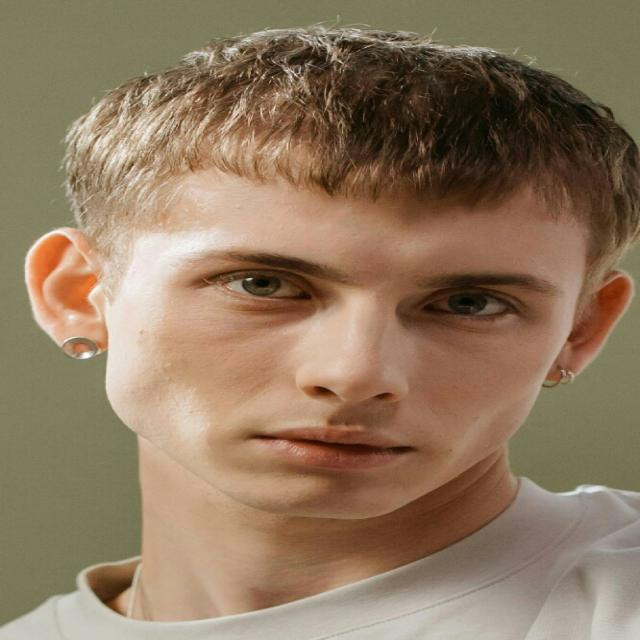front: (157, 199, 554, 497)
